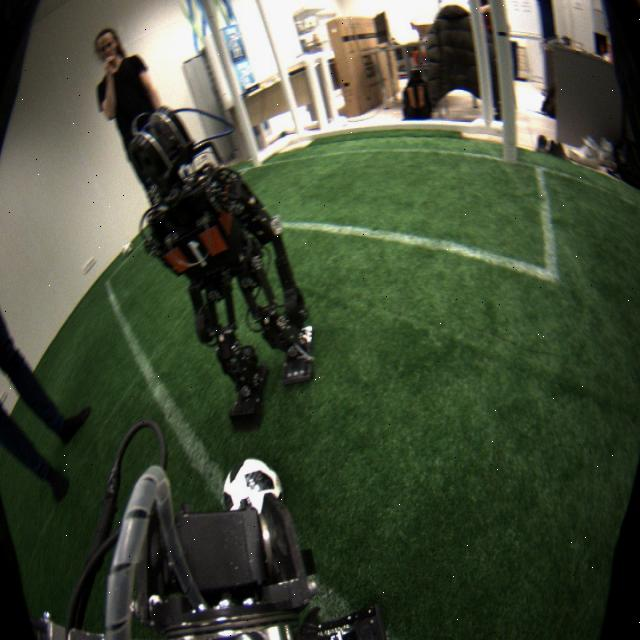ball: (222, 458, 283, 522)
goalpost: (202, 1, 262, 171), (487, 2, 516, 162)
